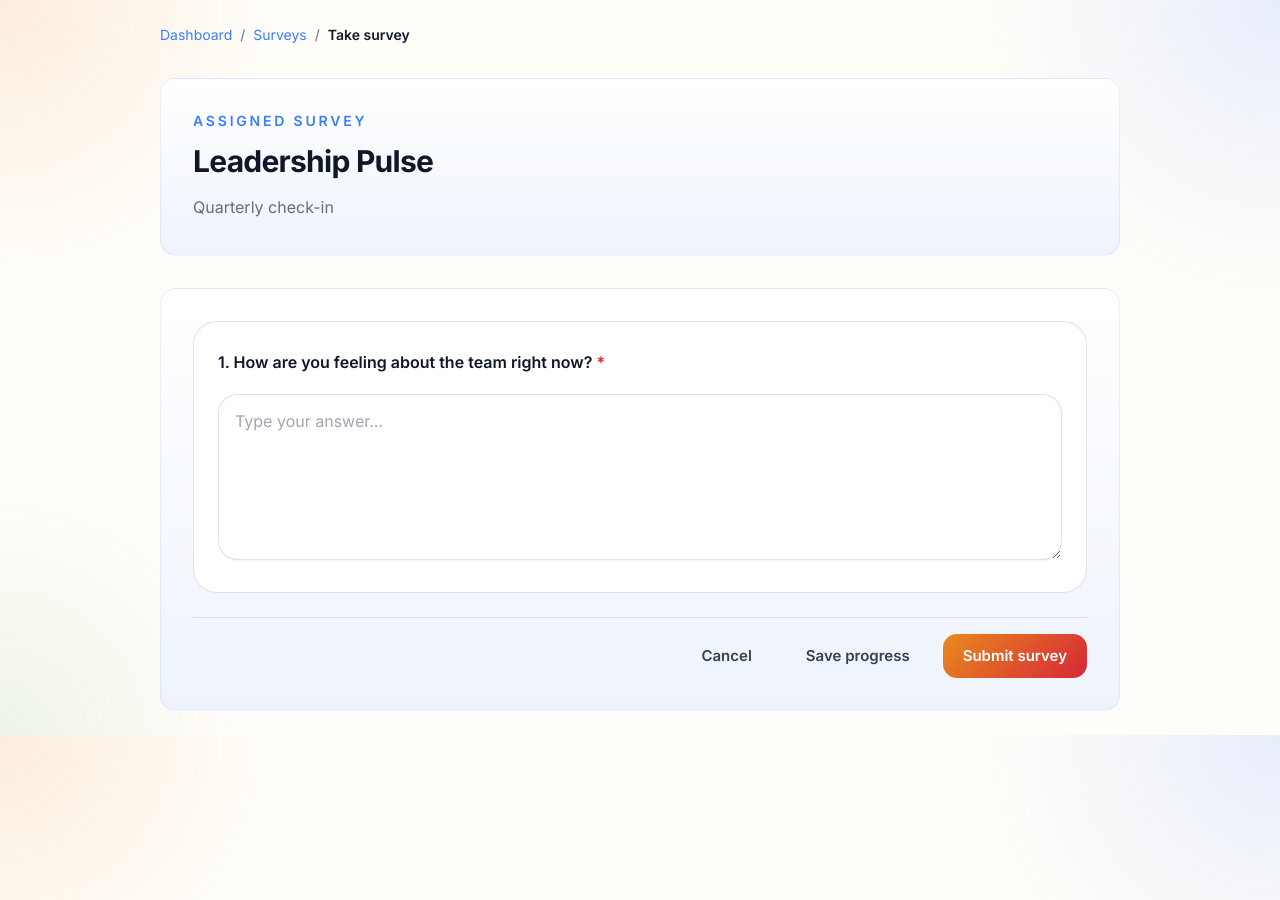
Scenario: ClientSurveyTake › submits a learner survey and shows the confirmed submitted state
This screenshot has width=1280, height=900.
Type "Clear and supported." into the text box with placeholder "Type your answer…" at [640, 477], box [218,394,1062,560]
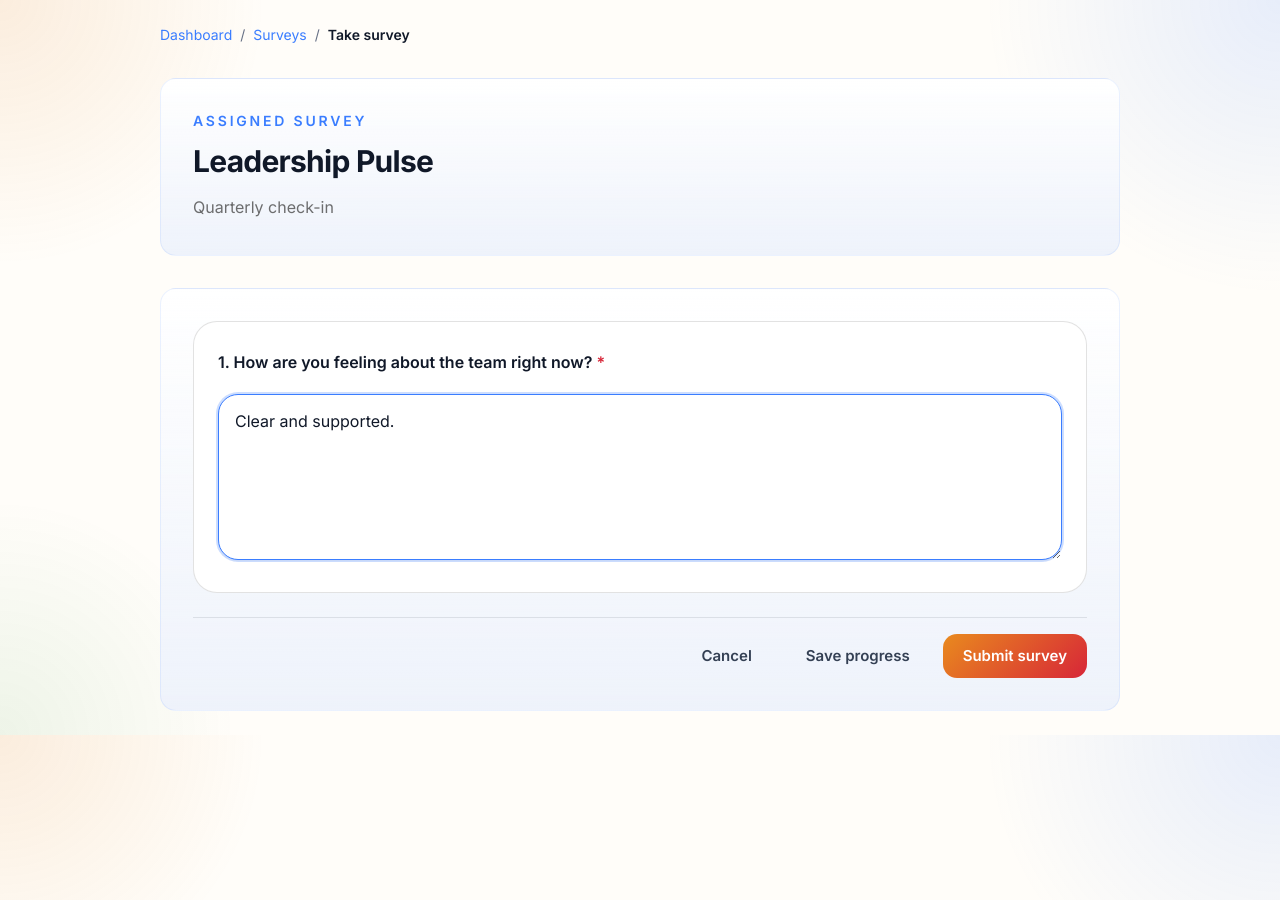
Click the button "Submit survey" at [1015, 656], box [943,634,1087,678]
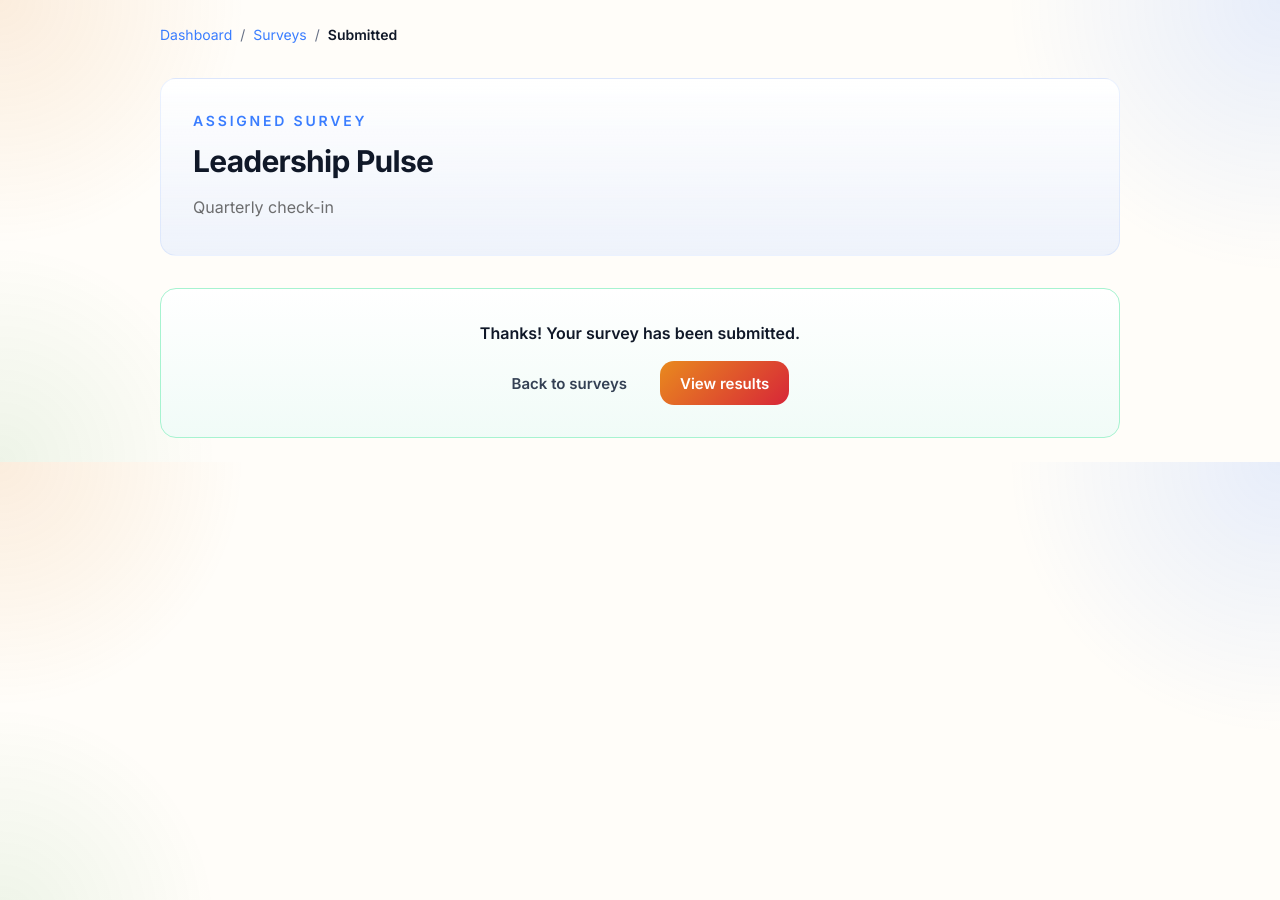
Result: the text "Thanks! Your survey has been submitted." is shown at [480,323,800,343]
